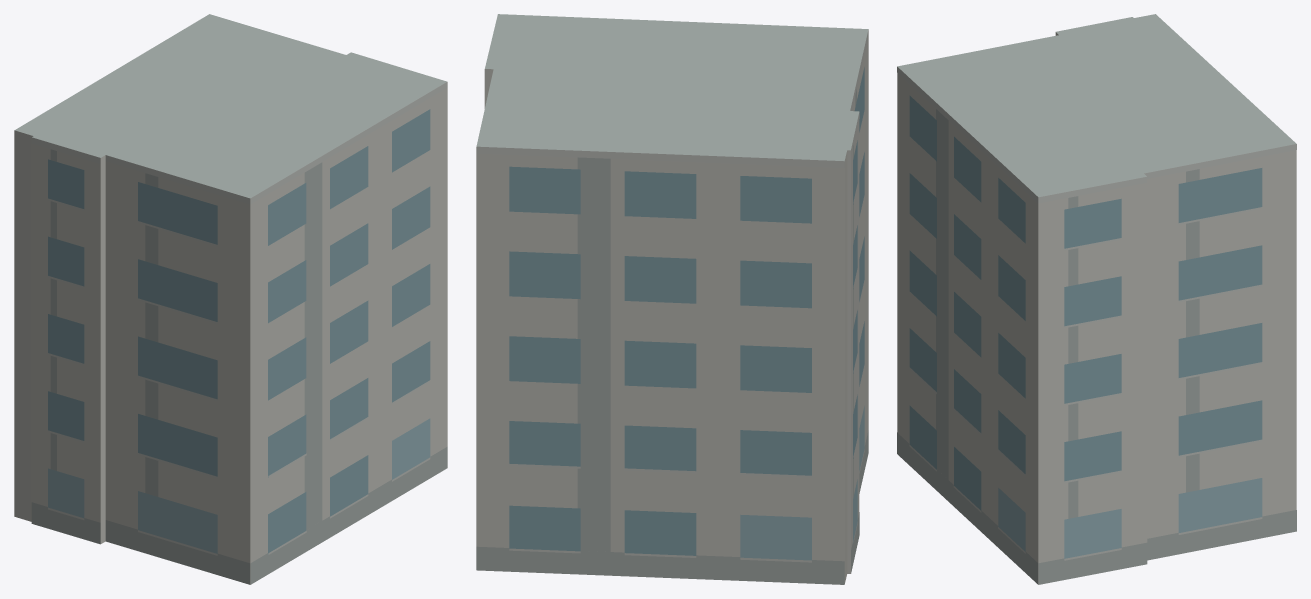
Rendered from survey-upis-32703842.glb.
3 views of the same model, side by side, from view 1: azimuth 30°, elevation 25°; view 2: azimuth 150°, elevation 25°; view 3: azimuth 270°, elevation 25° (orthographic). The views are drawn at different scales.
Visible parts, largest first — view 1: survey-upis-32703842.tmp; view 2: survey-upis-32703842.tmp; view 3: survey-upis-32703842.tmp.
Part boxes in pixels (bbox=[...]): survey-upis-32703842.tmp: bbox=[14, 14, 447, 584]; survey-upis-32703842.tmp: bbox=[476, 14, 868, 584]; survey-upis-32703842.tmp: bbox=[897, 14, 1296, 584].
Size of the model in its own units: 15.33 by 15.1 by 14.12.
